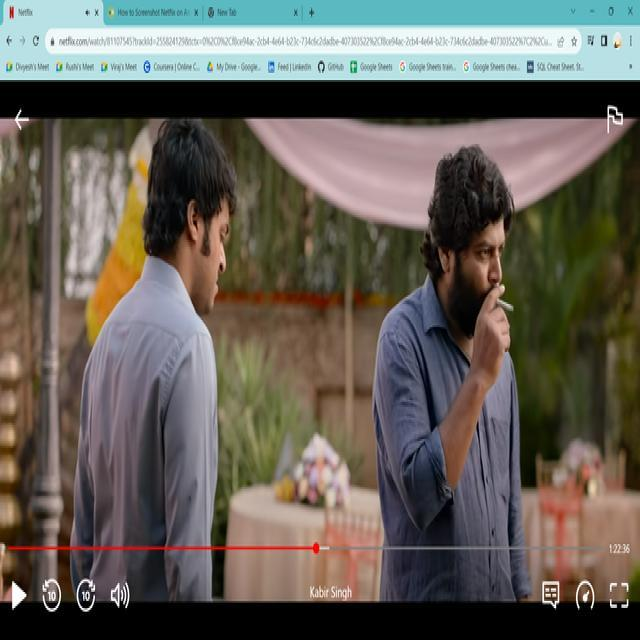smoking: (475, 286, 517, 320)
